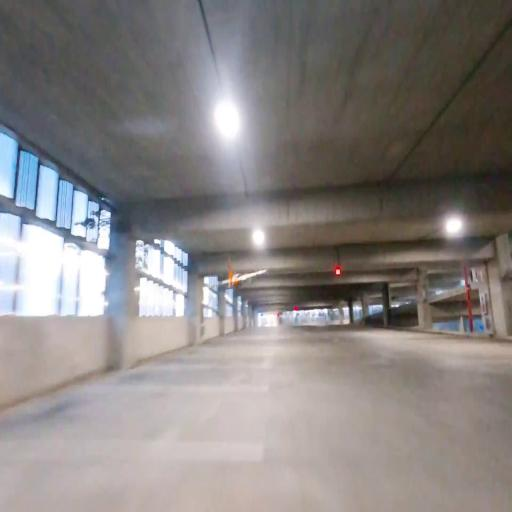uav: (203, 260, 268, 296)
